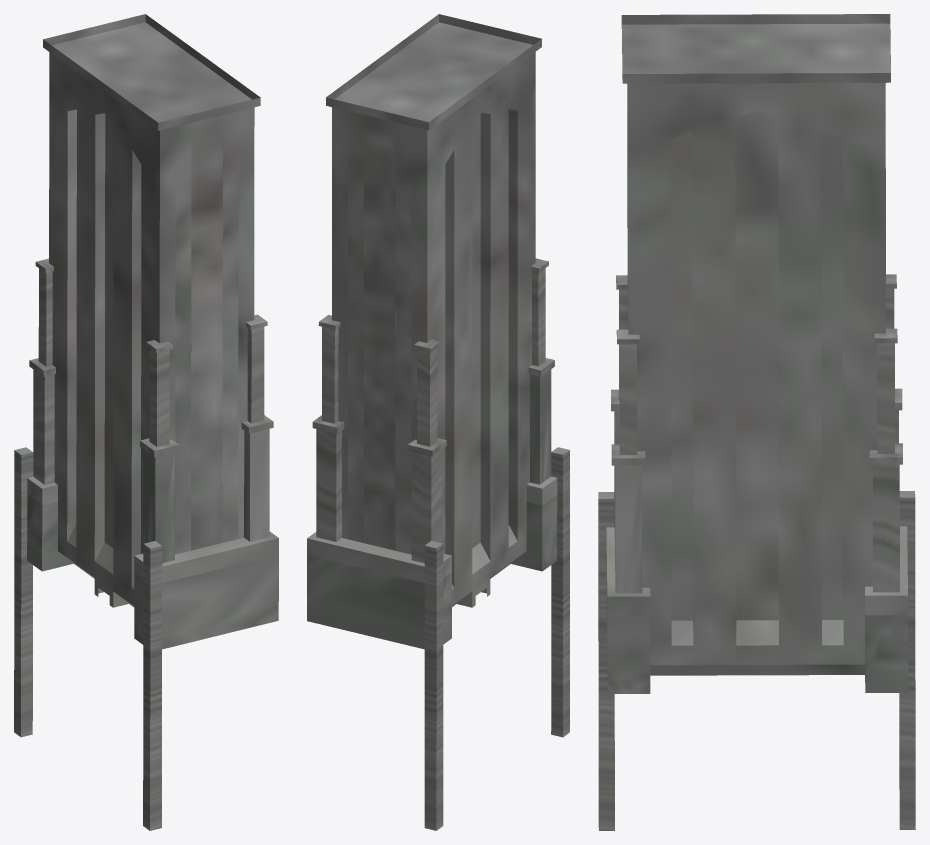
Rendered from bldg3.dae.
3 renders of one model, left to right at view 1: azimuth 30°, elevation 25°; view 2: azimuth 150°, elevation 25°; view 3: azimuth 270°, elevation 25°, orthographic. The views are drawn at different scales.
Visible parts, largest first — view 1: bldg4; view 2: bldg4; view 3: bldg4.
Boxes of the visible parts, bbox=[...] form: bldg4: bbox=[14, 14, 278, 830]; bldg4: bbox=[307, 14, 569, 830]; bldg4: bbox=[598, 14, 915, 830].
Bounding box in the file's own units: 1.35 × 2.36 × 6.74.
Materials: 1 (1 with a texture image).
